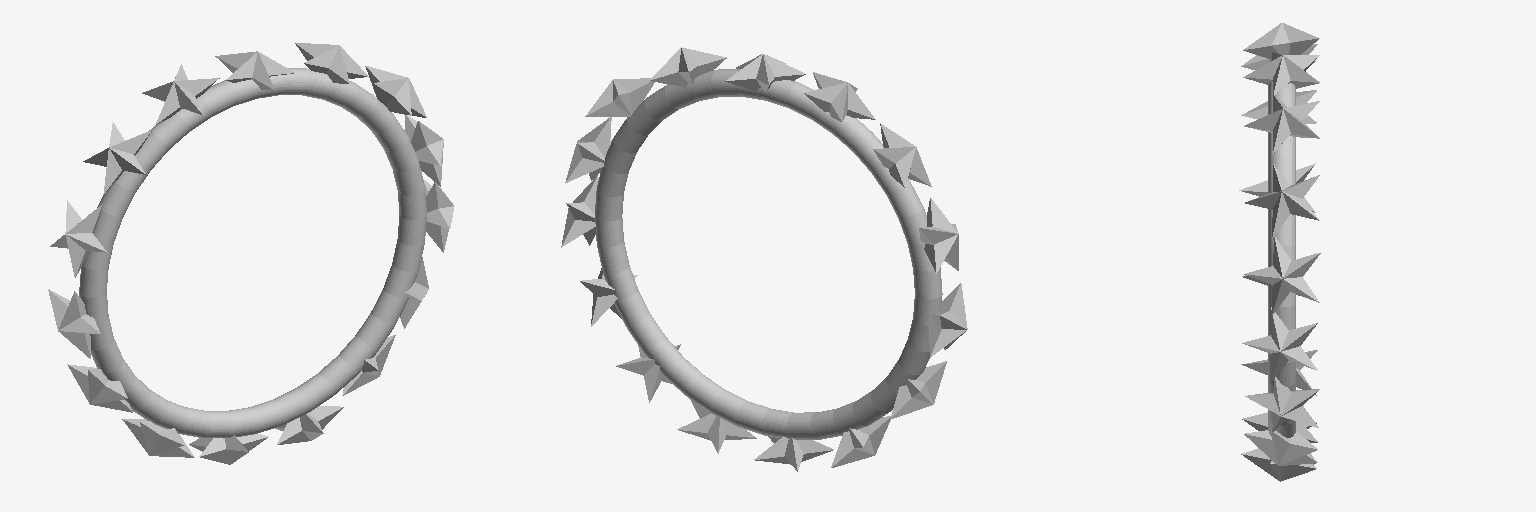
The model's file is star_ring.obj.
3 views of the same model, side by side, from view 1: azimuth 30°, elevation 25°; view 2: azimuth 150°, elevation 25°; view 3: azimuth 270°, elevation 25° (orthographic).
Parts seen in each view (by area): view 1: ring, const; view 2: ring, const; view 3: const, ring.
Part boxes in pixels (left/top/right/bottom): ring: left=79, top=68, right=426, bottom=438; const: left=48, top=43, right=454, bottom=464; ring: left=595, top=69, right=942, bottom=439; const: left=561, top=47, right=967, bottom=471; const: left=1239, top=23, right=1320, bottom=481; ring: left=1268, top=60, right=1295, bottom=437.
Size of the model in its own units: 4.1 by 3.99 by 0.7388.